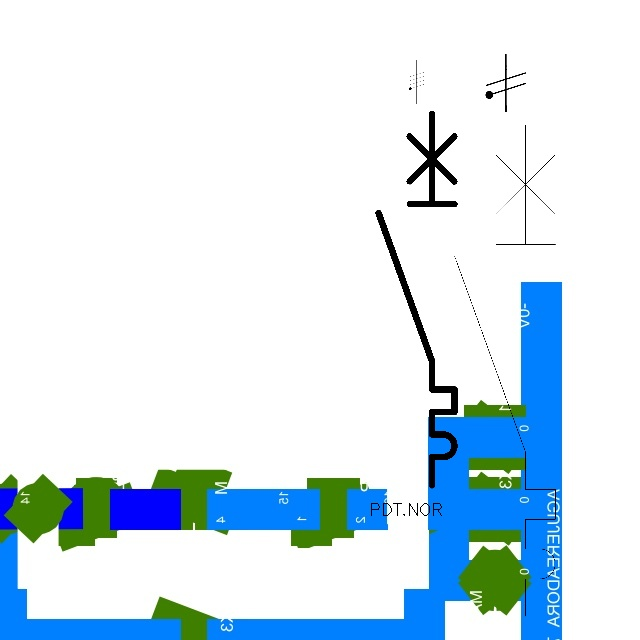interruptor_termomagnetico: (442, 112, 568, 629), (369, 104, 464, 494)
